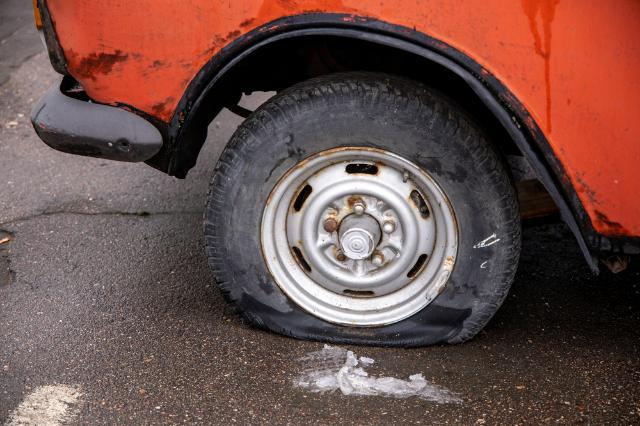tire flat: (201, 71, 520, 349)
